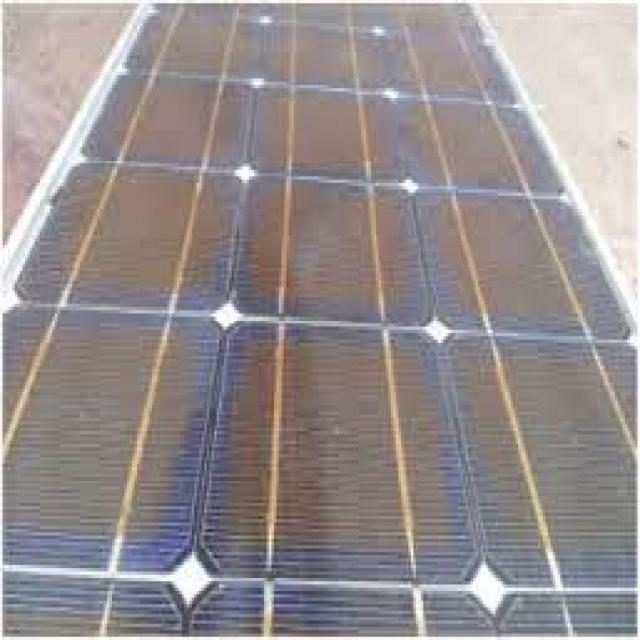faulty: (30, 5, 599, 640)
